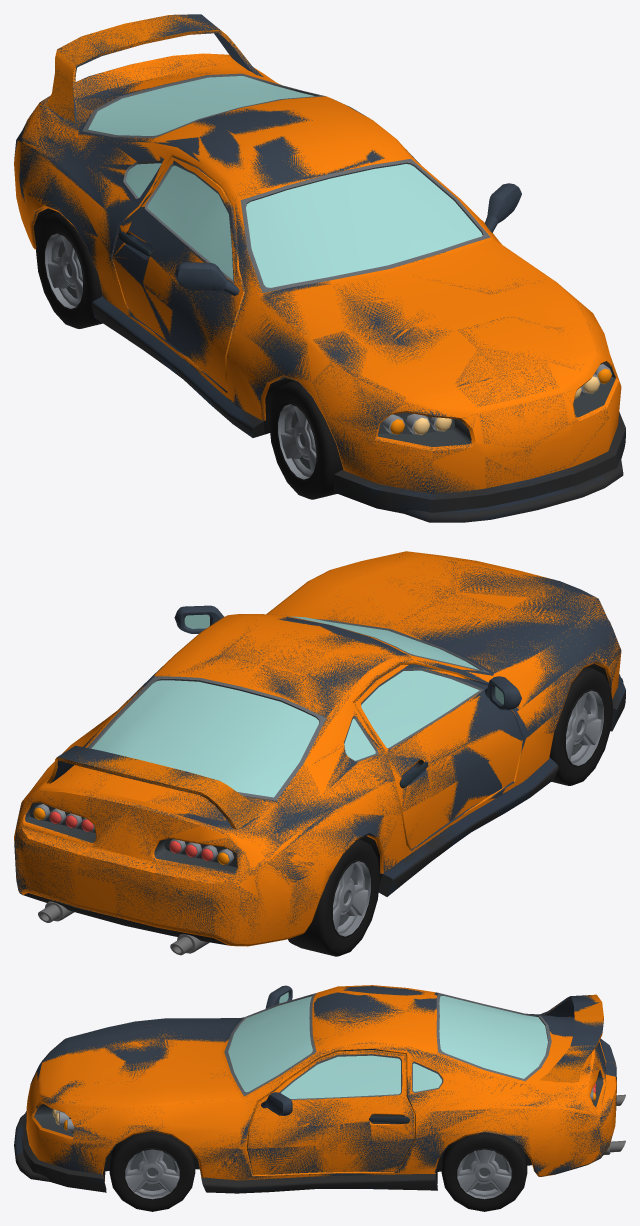
The model's file is SM_Vehicles_11_V1.fbx.
The picture shows the model from 3 angles, top to bottom: view 1: azimuth 30°, elevation 25°; view 2: azimuth 150°, elevation 25°; view 3: azimuth 270°, elevation 25°; orthographic projection. The views are drawn at different scales.
Visible parts, largest first — view 1: SM_Vehicles_11_V1, SM_Vehicles_11_V2, SM_Vehicles_11_FR, SM_Vehicles_11_RR; view 2: SM_Vehicles_11_V1, SM_Vehicles_11_V2, SM_Vehicles_11_RR, SM_Vehicles_11_FR; view 3: SM_Vehicles_11_V1, SM_Vehicles_11_V2, SM_Vehicles_11_FL, SM_Vehicles_11_RL.
Boxes of the visible parts, <box> form: SM_Vehicles_11_V1: <box>14,14,625,522</box>; SM_Vehicles_11_V2: <box>14,14,625,522</box>; SM_Vehicles_11_FR: <box>269,381,343,499</box>; SM_Vehicles_11_RR: <box>36,211,102,328</box>; SM_Vehicles_11_V1: <box>14,551,625,955</box>; SM_Vehicles_11_V2: <box>14,554,625,953</box>; SM_Vehicles_11_RR: <box>288,839,379,956</box>; SM_Vehicles_11_FR: <box>549,667,612,785</box>; SM_Vehicles_11_V1: <box>14,985,623,1193</box>; SM_Vehicles_11_V2: <box>14,985,625,1191</box>; SM_Vehicles_11_FL: <box>109,1131,195,1211</box>; SM_Vehicles_11_RL: <box>441,1133,527,1211</box>.
Bounding box in the file's own units: 1.9 × 1.15 × 4.1.
